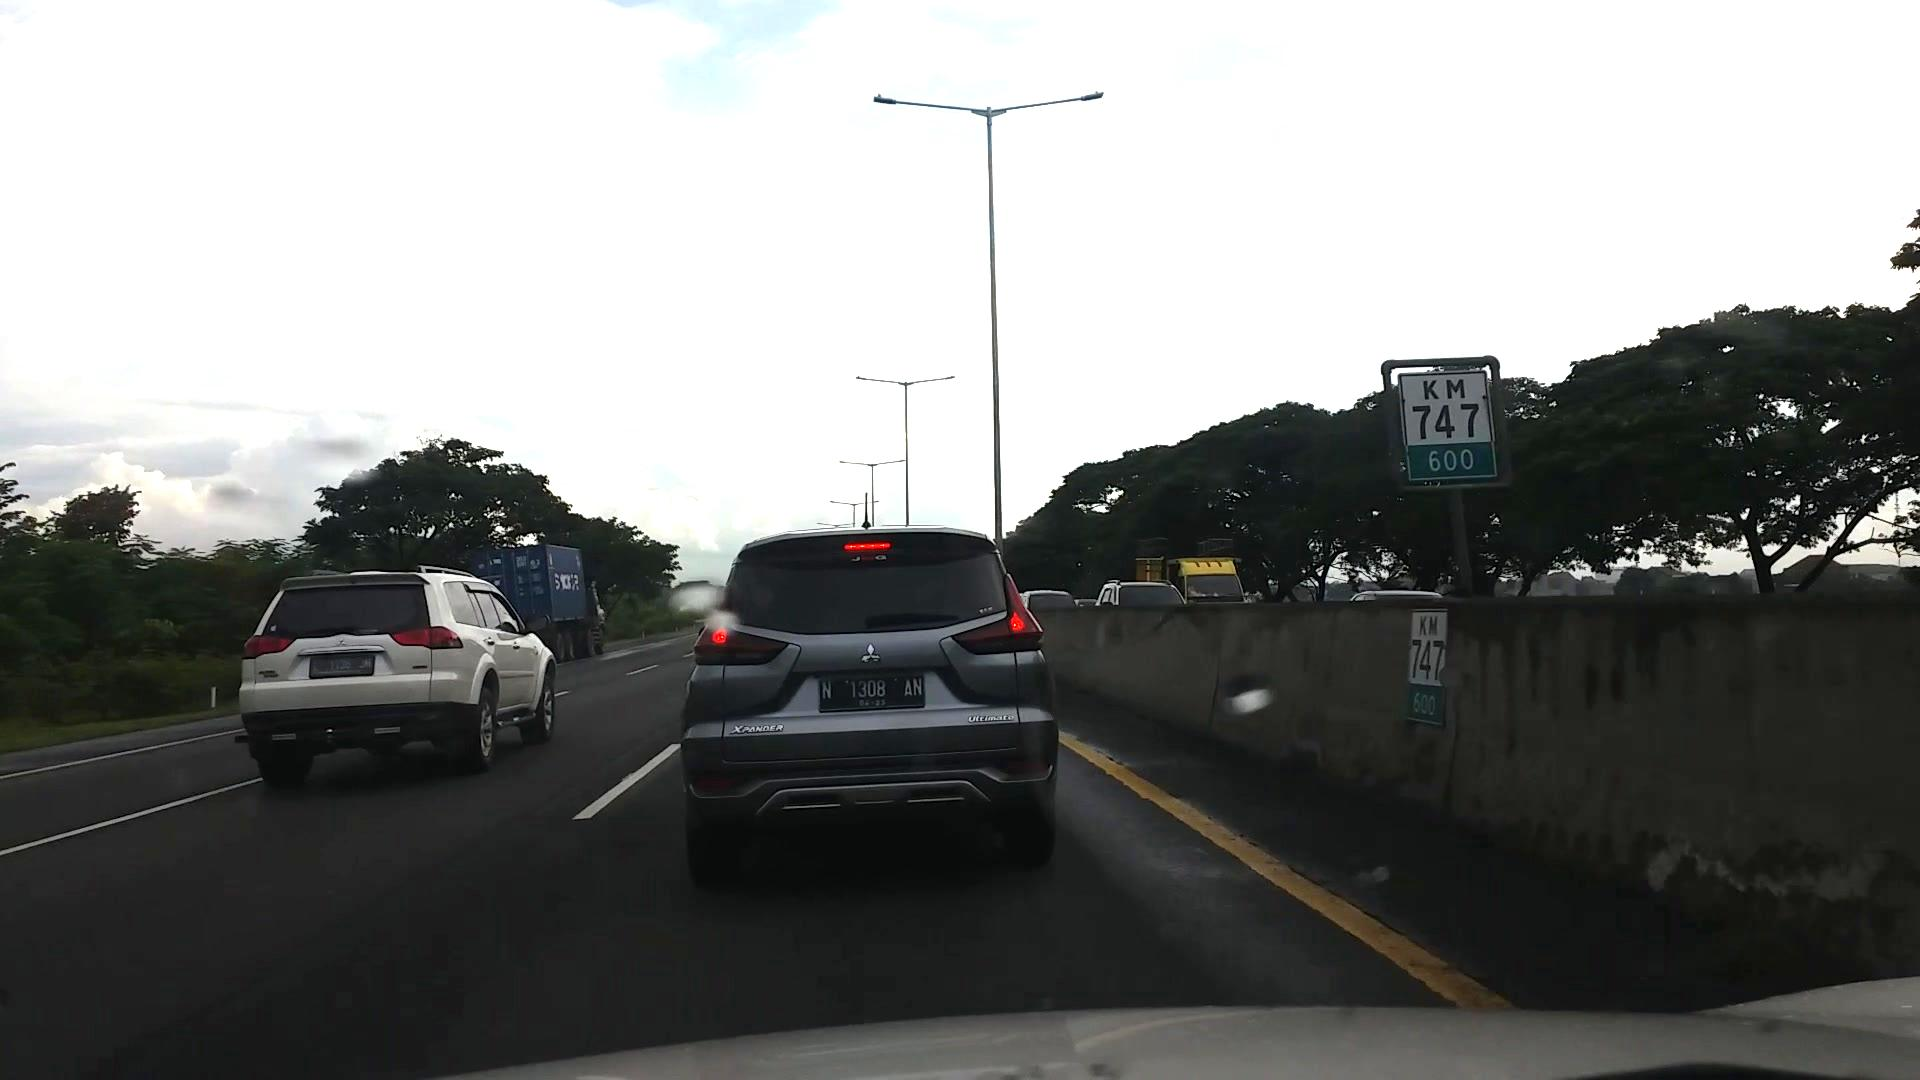plate_positive: (819, 675, 924, 711)
